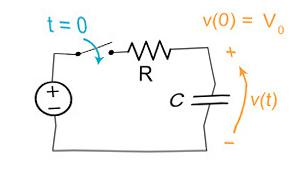Battery: (29, 78, 77, 123)
